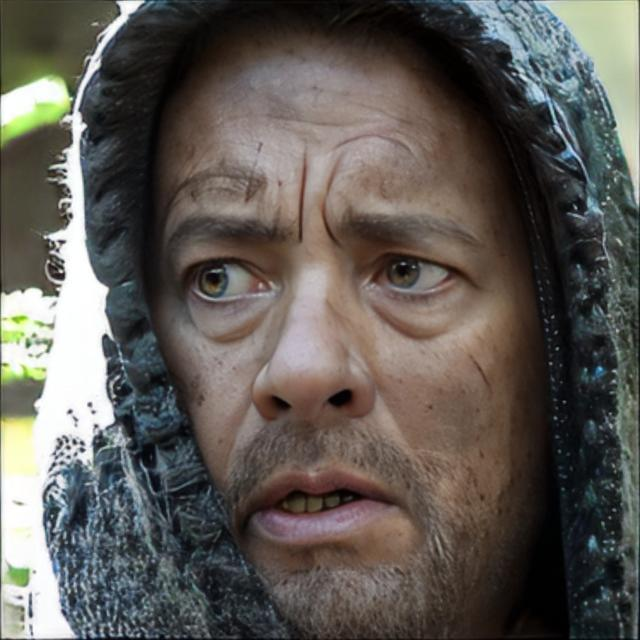Fear: (148, 28, 551, 640)
